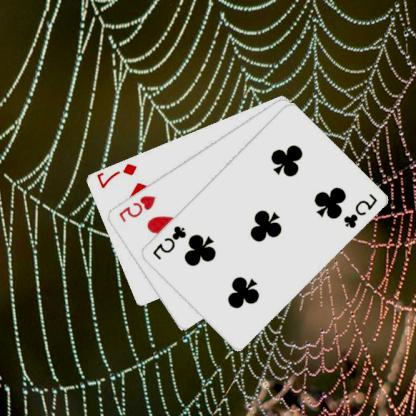5C: (342, 190, 380, 230), (151, 222, 189, 261)
5H: (118, 192, 158, 224)
7D: (96, 160, 140, 190)
